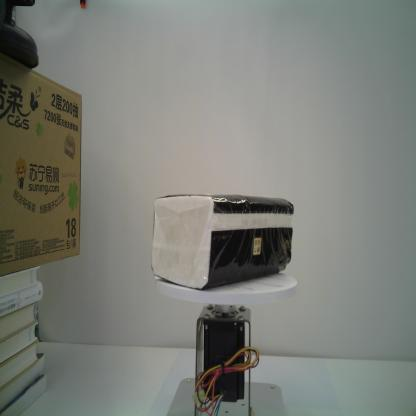Tissue: (149, 192, 294, 292)
